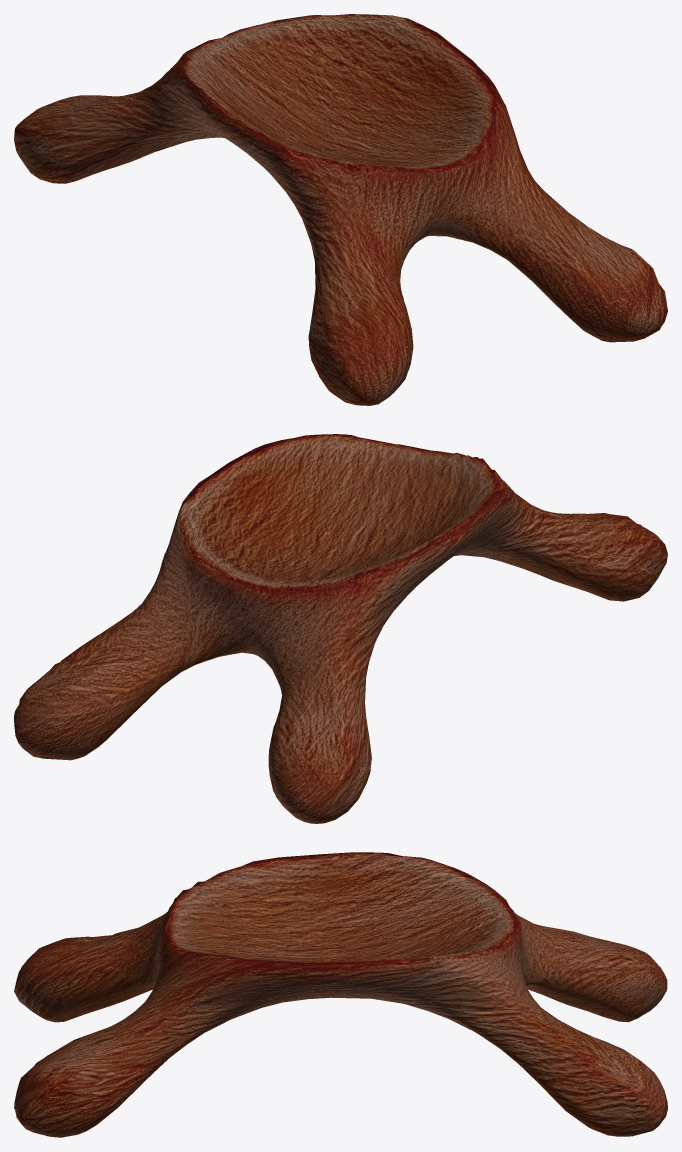
Rendered from spiseredskap_12.glb.
3 renders of one model, top to bottom at view 1: azimuth 30°, elevation 25°; view 2: azimuth 150°, elevation 25°; view 3: azimuth 270°, elevation 25°, orthographic. The views are drawn at different scales.
Visible parts, largest first — view 1: tripo_node_f2cd2b4c-0341-4801-9c4f-837b78a5294b; view 2: tripo_node_f2cd2b4c-0341-4801-9c4f-837b78a5294b; view 3: tripo_node_f2cd2b4c-0341-4801-9c4f-837b78a5294b.
Boxes of the visible parts, left/top/right/bottom form: tripo_node_f2cd2b4c-0341-4801-9c4f-837b78a5294b: left=14, top=14, right=667, bottom=405; tripo_node_f2cd2b4c-0341-4801-9c4f-837b78a5294b: left=14, top=434, right=667, bottom=823; tripo_node_f2cd2b4c-0341-4801-9c4f-837b78a5294b: left=14, top=852, right=667, bottom=1137.
Bounding box in the file's own units: 0.5291 × 0.2798 × 0.9814.
Materials: 1 (1 with a texture image).
